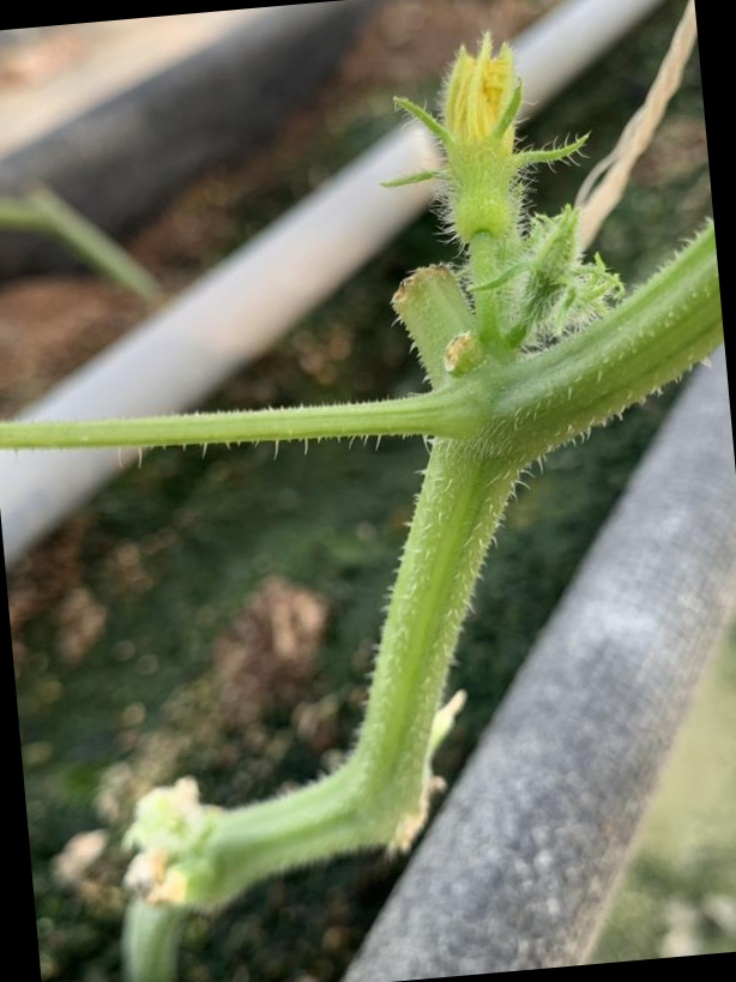bud: (410, 41, 558, 259)
